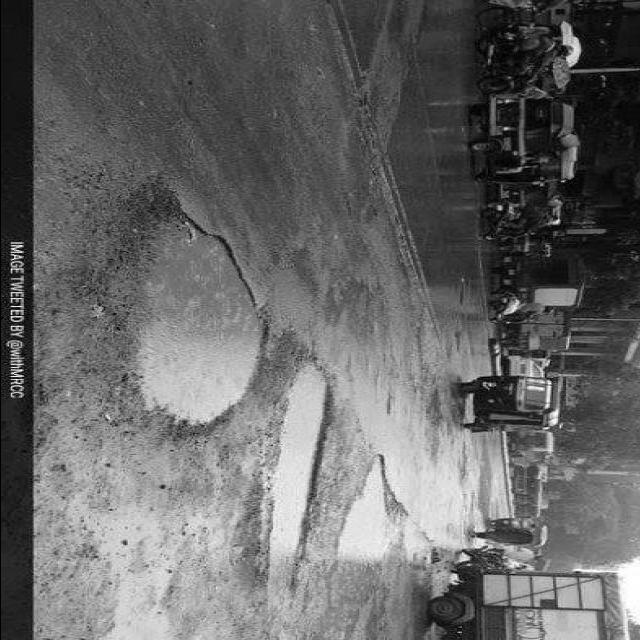lubang: (103, 211, 267, 429), (241, 363, 339, 611), (304, 2, 384, 223), (318, 450, 410, 634), (72, 526, 204, 640), (88, 164, 200, 282), (390, 220, 432, 408), (36, 277, 65, 478), (398, 516, 452, 566), (450, 276, 474, 308)
